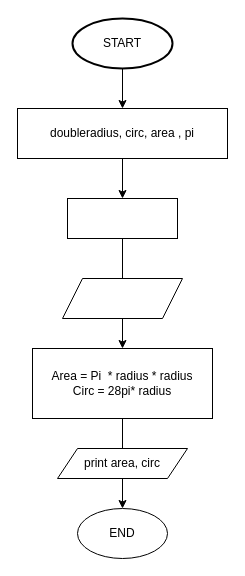
The diagram is 245 pixels wide and 576 high, and some of its shapes have lost their labels. Here are the shapes that lost their labels. From the top down, the centre of each, then its label:
the point at 122,218: Pi=3.142
the point at 122,298: input radius
